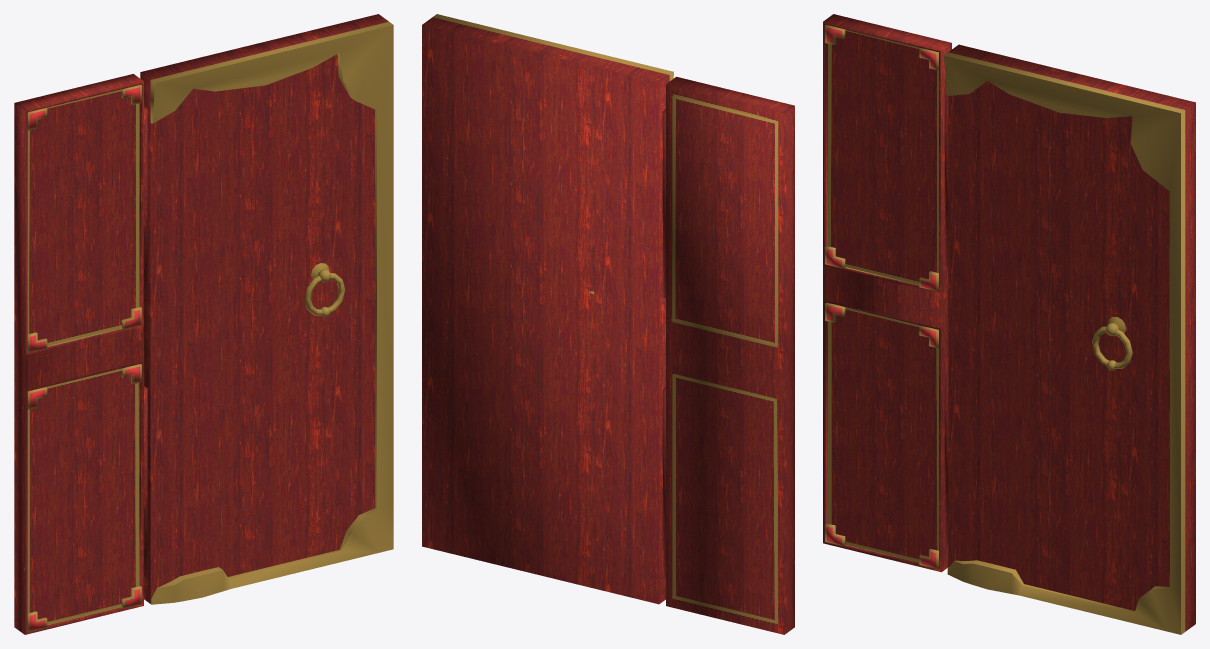
File: Door_1 - back.FBX
The picture shows the model from 3 angles, left to right: view 1: azimuth 30°, elevation 25°; view 2: azimuth 150°, elevation 25°; view 3: azimuth 330°, elevation 25°; orthographic projection.
Visible parts, largest first — view 1: Door_1; view 2: Door_1; view 3: Door_1.
Part boxes in pixels (left/top/right/bottom): Door_1: left=14, top=14, right=393, bottom=634; Door_1: left=422, top=14, right=794, bottom=634; Door_1: left=823, top=14, right=1195, bottom=634.
Bounding box in the file's own units: 58.36 × 80.27 × 5.09.
